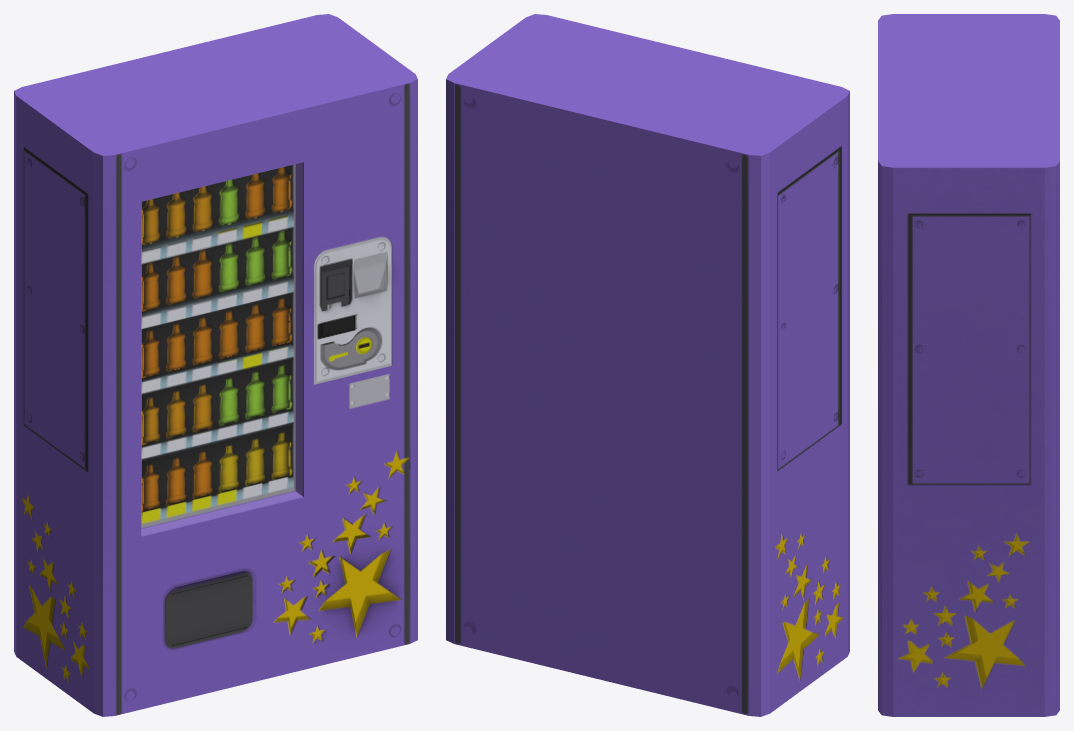
Rendered from chuchuwa.glb.
3 views of the same model, side by side, from view 1: azimuth 30°, elevation 25°; view 2: azimuth 150°, elevation 25°; view 3: azimuth 270°, elevation 25° (orthographic). The views are drawn at different scales.
Parts seen in each view (by area): view 1: Box003; view 2: Box003; view 3: Box003.
Boxes of the visible parts, x1,y1,x2,y2 form: Box003: (14, 14, 417, 716); Box003: (446, 14, 849, 716); Box003: (878, 14, 1059, 716).
Bounding box in the file's own units: 1.2 × 2 × 0.6.
Materials: 2 (1 with a texture image).
